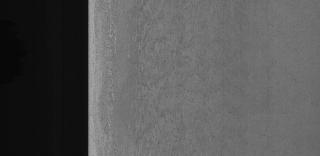silk spot: (123, 2, 213, 154)
